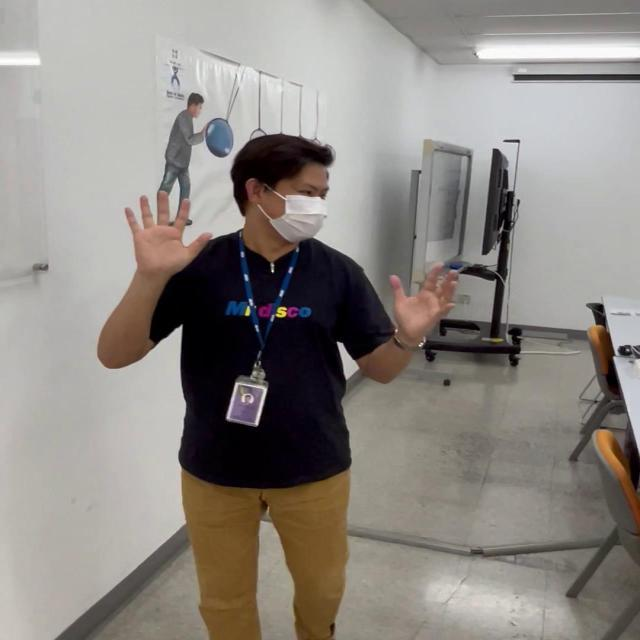bare_hand: (120, 186, 212, 270), (390, 258, 462, 338)
